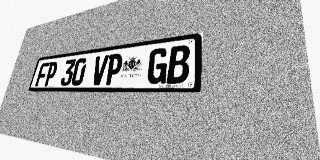0: (70, 57, 88, 86)
3: (60, 59, 76, 86)
B: (166, 44, 191, 84)
F: (35, 62, 50, 86)
G: (146, 47, 169, 84)
P: (104, 53, 124, 85), (43, 61, 59, 86)
V: (90, 55, 109, 85)
